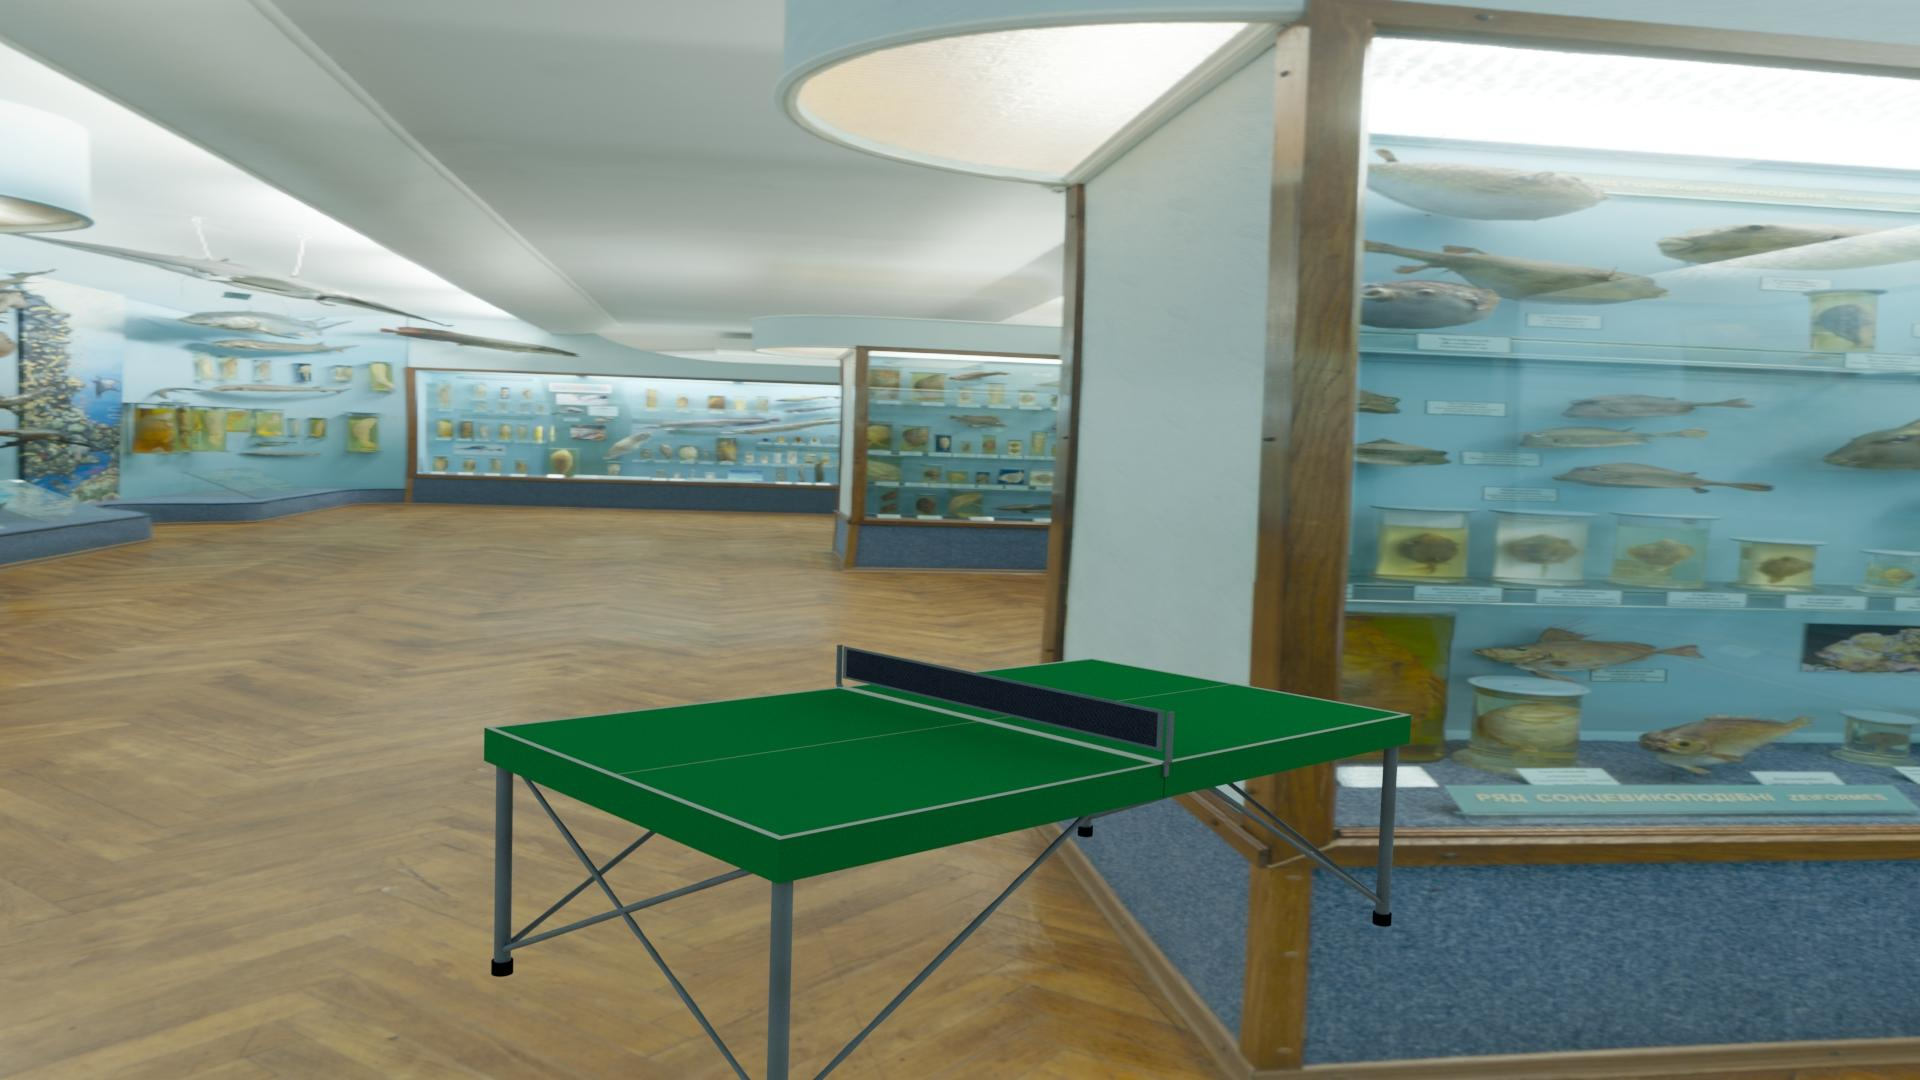table: (493, 659, 1403, 836)
